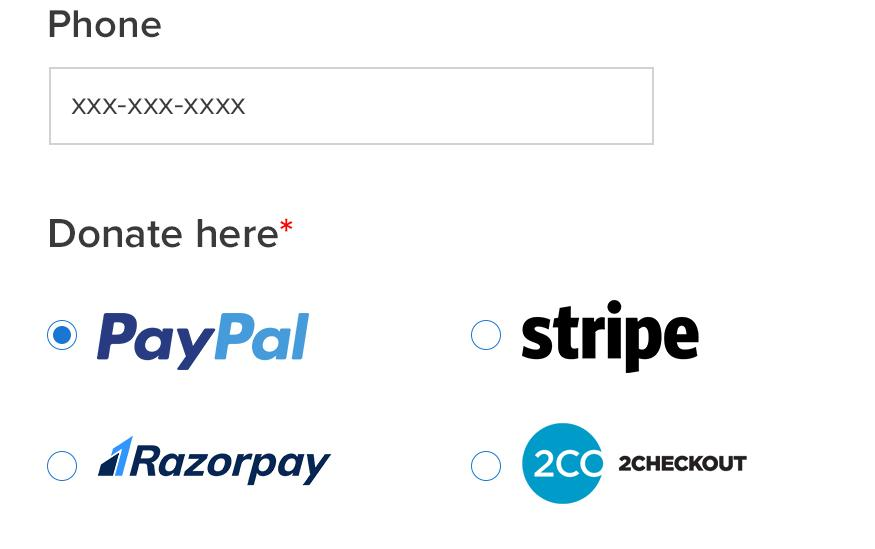field: (50, 67, 659, 149)
field_with_label: (43, 7, 666, 152)
radio: (471, 302, 513, 361), (44, 312, 88, 367), (42, 443, 84, 488), (471, 439, 505, 488)
radio_with_label: (462, 431, 758, 498), (460, 296, 715, 370), (32, 435, 327, 496), (36, 305, 308, 370)
